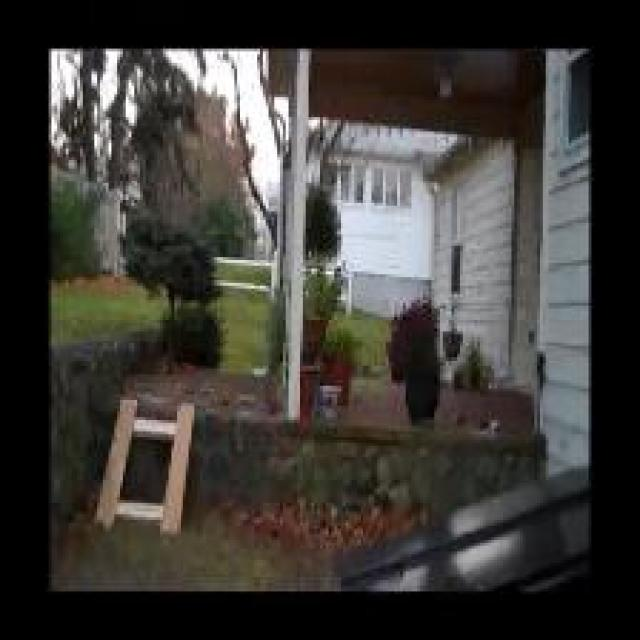other: (250, 482, 412, 536), (302, 302, 348, 412), (386, 287, 432, 375)
